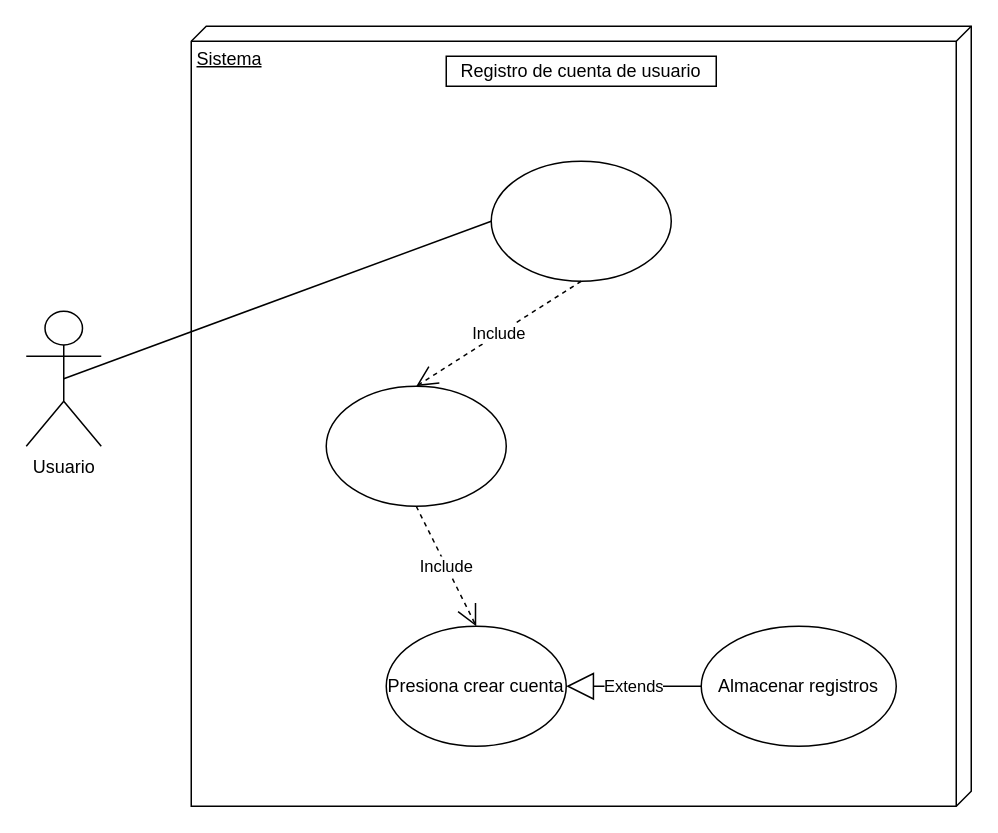
The diagram is 998 pixels wide and 833 high, and some of its shapes have lost their labels. The shapes that lost their labels are listed below. From the top down, each one's box as (x1, y1, x2, y2) in pixels, then its label:
(490, 160, 671, 281): Presiona botón registrar
(325, 385, 506, 506): Ingresa datos solicitados
